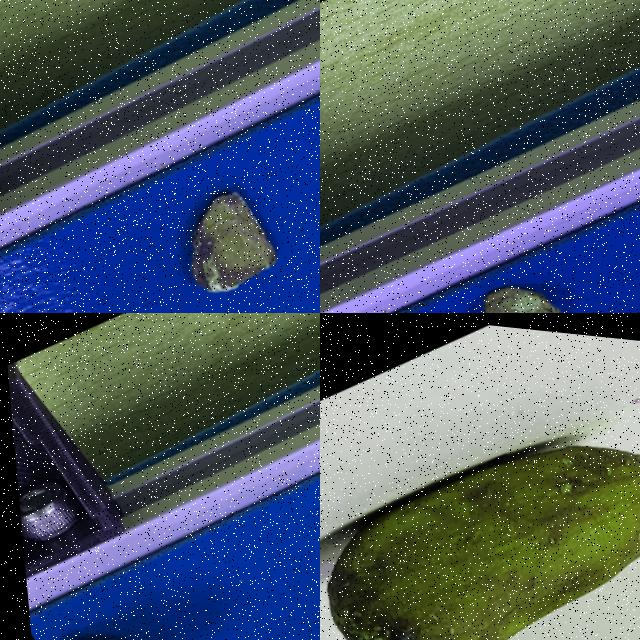Agglomerated_cocoabeans: (14, 501, 319, 639)
Fine_cocoabeans: (320, 313, 639, 639)
Flat_cocoabeans: (79, 125, 319, 312), (348, 200, 639, 312)
